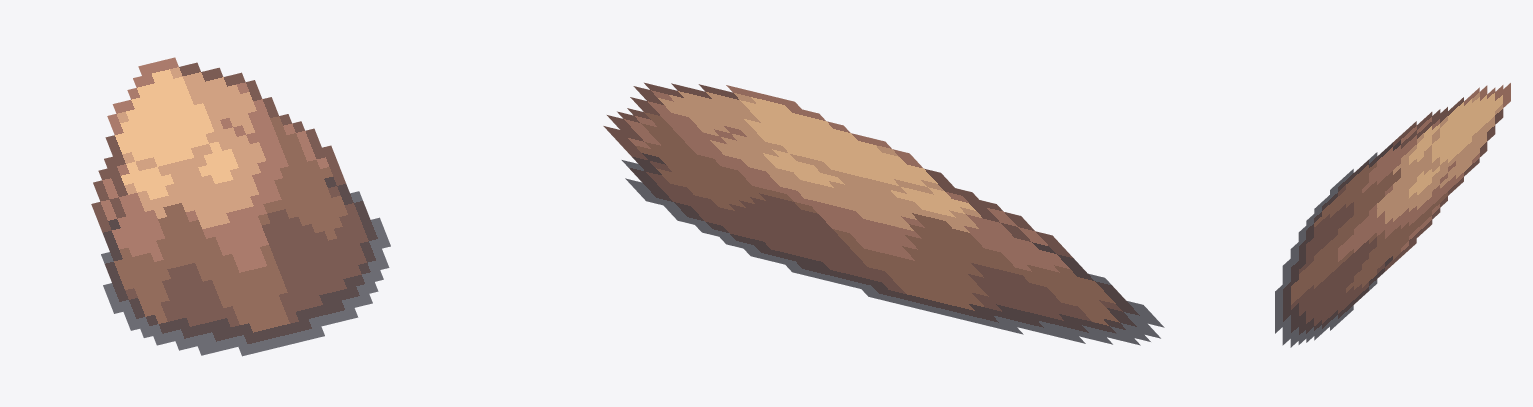
3 renders of one model, left to right at view 1: azimuth 30°, elevation 25°; view 2: azimuth 150°, elevation 25°; view 3: azimuth 270°, elevation 25°, orthographic. The views are drawn at different scales.
Size of the model in its own units: 2 by 1.41 by 1.41.
Materials: 1 (1 with a texture image).
